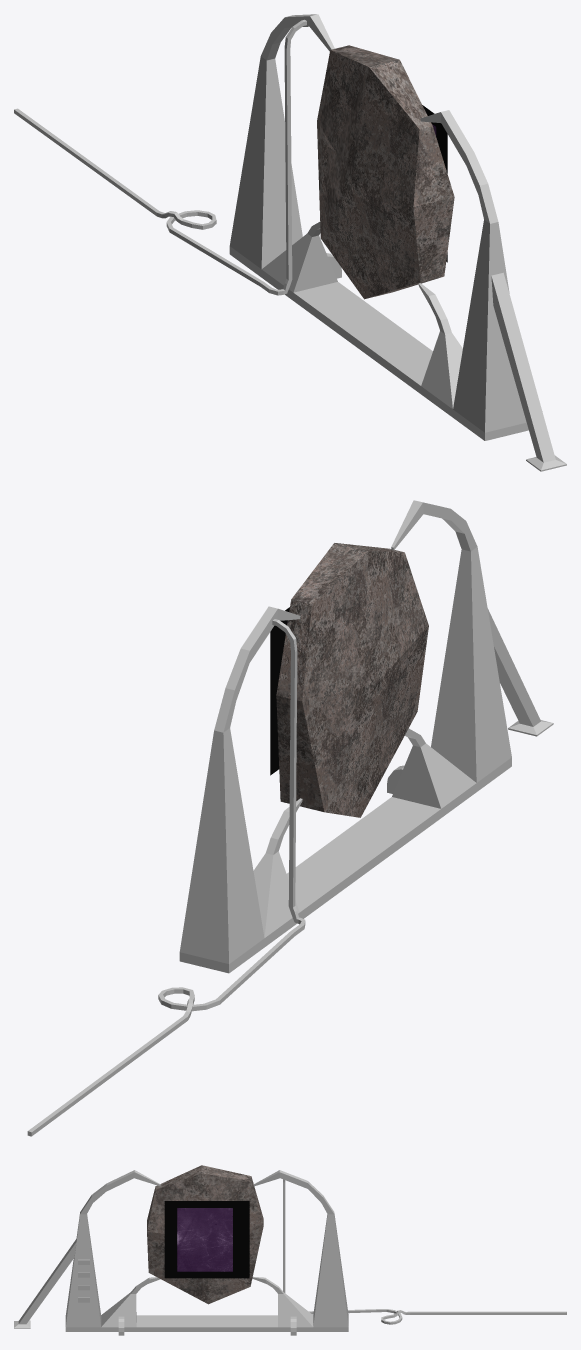
Rendered from RuneGate.fbx.
The picture shows the model from 3 angles, top to bottom: view 1: azimuth 30°, elevation 25°; view 2: azimuth 150°, elevation 25°; view 3: azimuth 270°, elevation 25°; orthographic projection. The views are drawn at different scales.
Parts seen in each view (by area): view 1: Gate, Rune3, Rune4, Rune2, Rune1; view 2: Gate, Rune1, Rune2, Rune3, Rune4, Mark; view 3: Gate, Mark, Rune2, Rune3, Rune4, Rune1.
Part boxes in pixels (box(x1,y1,x2,y2)): Gate: box(14, 14, 566, 471); Rune3: box(348, 60, 454, 220); Rune4: box(348, 172, 454, 299); Rune2: box(318, 45, 399, 157); Rune1: box(317, 112, 361, 287); Gate: box(27, 500, 553, 1136); Rune1: box(276, 672, 376, 816); Rune2: box(279, 543, 368, 704); Rune3: box(336, 543, 428, 684); Rune4: box(354, 641, 426, 817); Mark: box(270, 607, 289, 775); Gate: box(14, 1170, 566, 1335); Mark: box(164, 1201, 249, 1278); Rune2: box(196, 1165, 261, 1233); Rune3: box(147, 1165, 209, 1231); Rune4: box(147, 1228, 208, 1303); Rune1: box(202, 1213, 263, 1304).
Size of the model in its own units: 145 by 456 by 1459.
